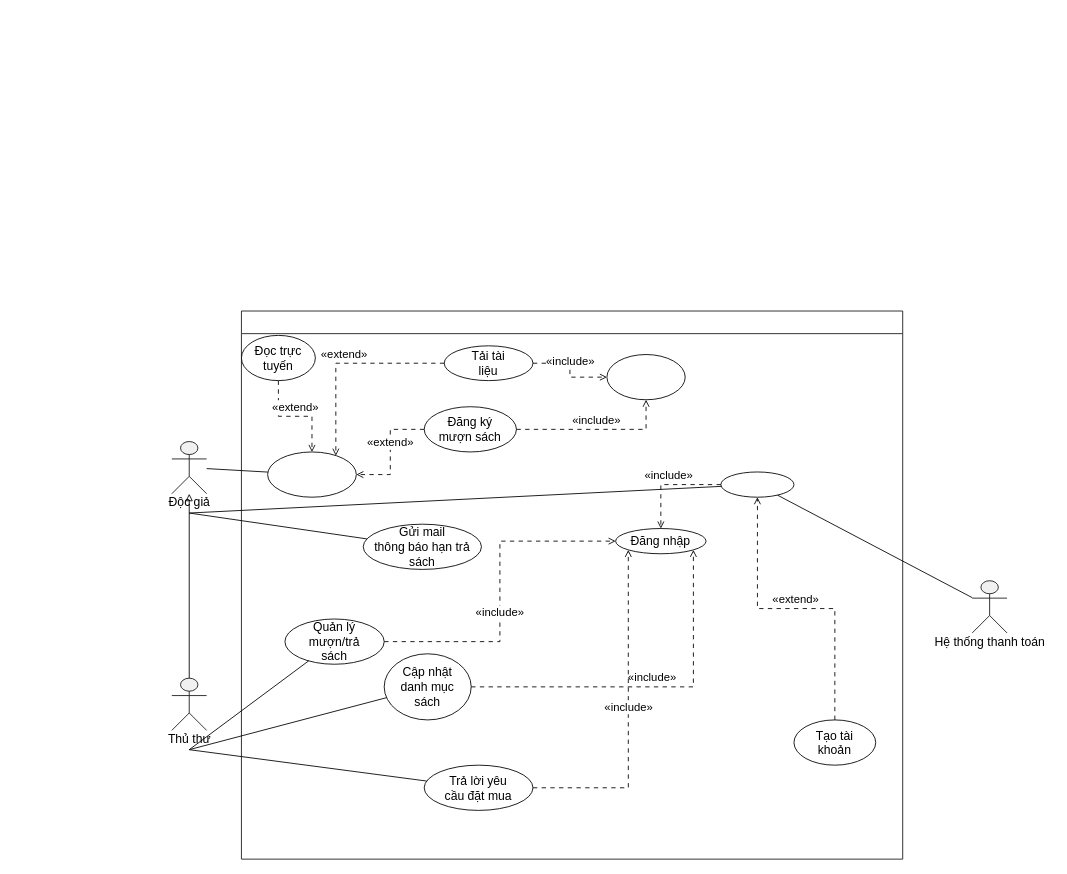
Image size: 1067x874. Some labels were removed from this diagram. Here are the shapes that lost their labels. From the top down, the box of each, then its label:
(606, 354, 685, 400): Nhập mã thẻ TV
(267, 451, 356, 497): Tìm kiếm tài liệu
(720, 471, 794, 497): Đặt mua
(241, 310, 903, 859): Hệ thống thư viện trực tuyến
